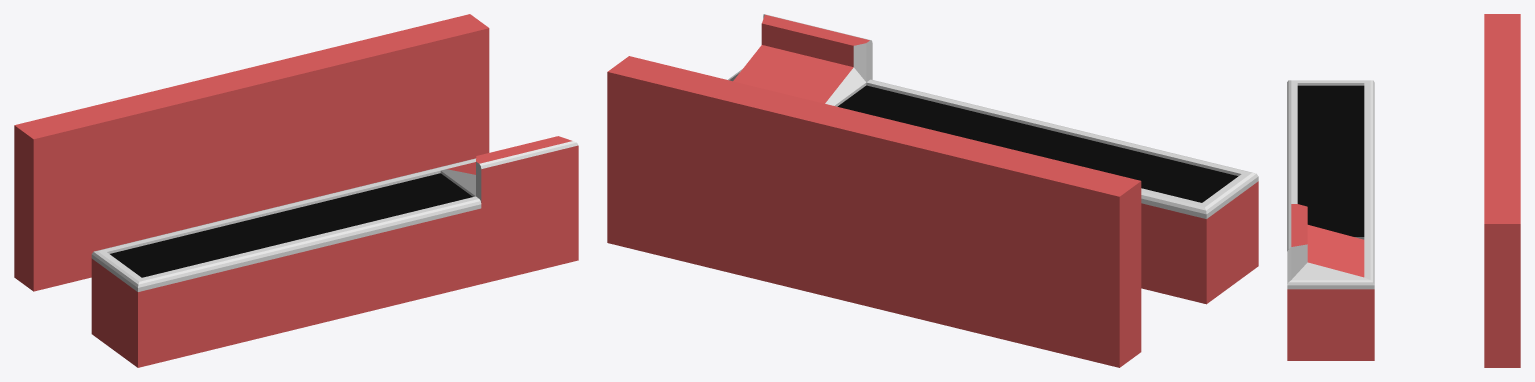
Rendered from CheckoutStand.fbx.
3 views of the same model, side by side, from view 1: azimuth 30°, elevation 25°; view 2: azimuth 150°, elevation 25°; view 3: azimuth 270°, elevation 25° (orthographic). The views are drawn at different scales.
Parts seen in each view (by area): view 1: Cube.044; view 2: Cube.044; view 3: Cube.044.
Part boxes in pixels (x1,y1,x2,y2): Cube.044: (14, 14, 578, 367); Cube.044: (607, 14, 1258, 367); Cube.044: (1287, 14, 1520, 367).
Size of the model in its own units: 1138 by 363 by 535.
